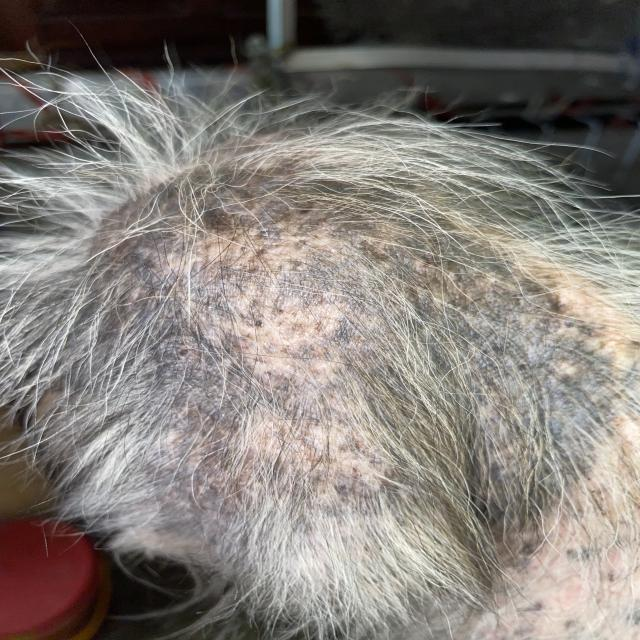demodicosis: (148, 192, 584, 533)
